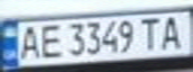3: (63, 20, 87, 57), (84, 19, 106, 56)
4: (100, 18, 121, 54)
9: (115, 17, 139, 53)
A: (157, 12, 190, 51), (15, 22, 42, 61)
E: (33, 21, 63, 60)
T: (136, 16, 163, 52)
